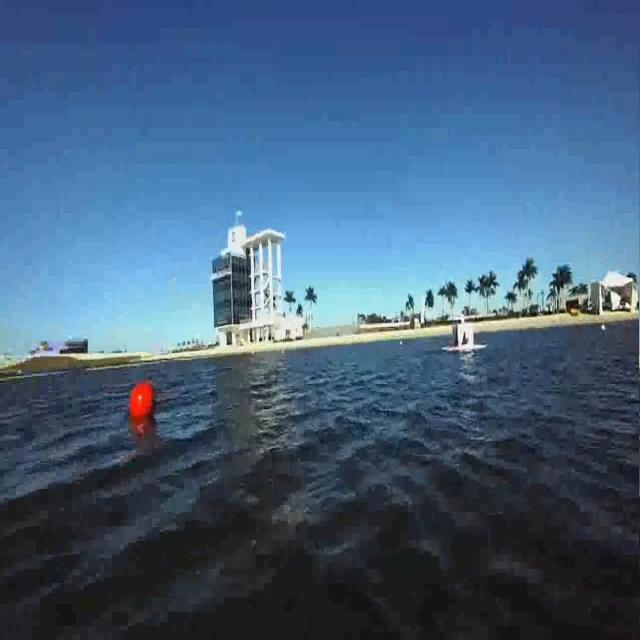red-buoy: (130, 383, 156, 420)
